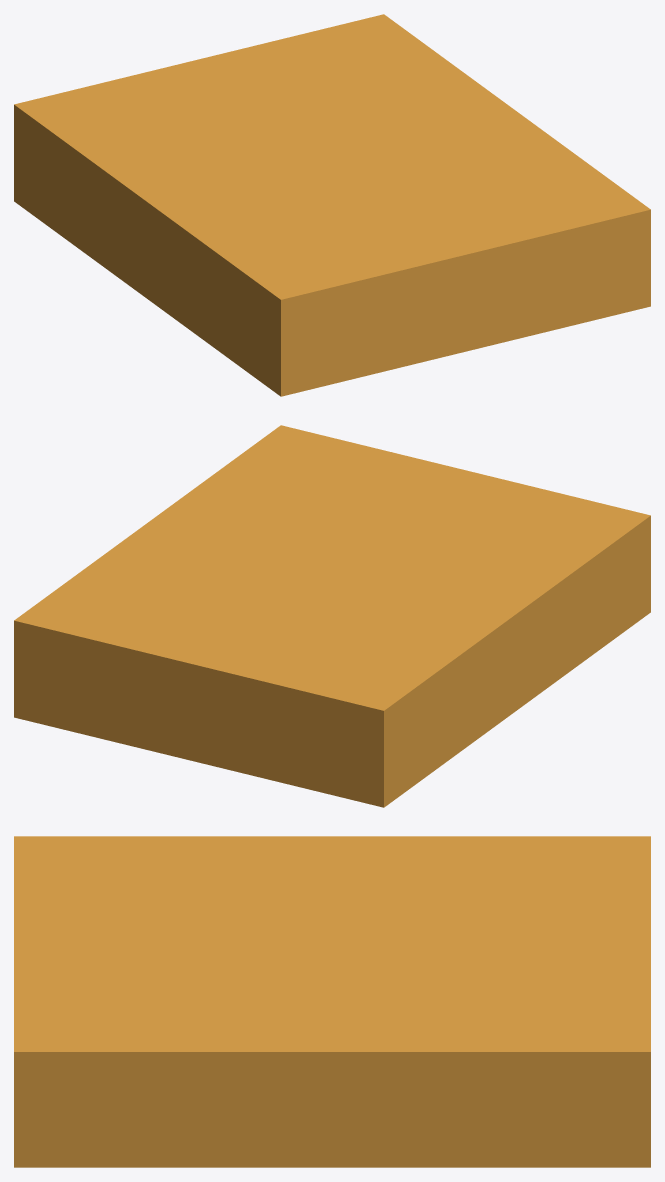
Rendered from train-station-platform-empty-small.glb.
3 views of the same model, one above another, from view 1: azimuth 30°, elevation 25°; view 2: azimuth 150°, elevation 25°; view 3: azimuth 270°, elevation 25° (orthographic). The views are drawn at different scales.
Visible parts, largest first — view 1: train-station-platform-empty-small; view 2: train-station-platform-empty-small; view 3: train-station-platform-empty-small.
Boxes of the visible parts, <box> form: train-station-platform-empty-small: <box>14,14,650,396</box>; train-station-platform-empty-small: <box>14,425,650,807</box>; train-station-platform-empty-small: <box>14,836,650,1167</box>.
Bounding box in the file's own units: 4 × 1 × 5.
